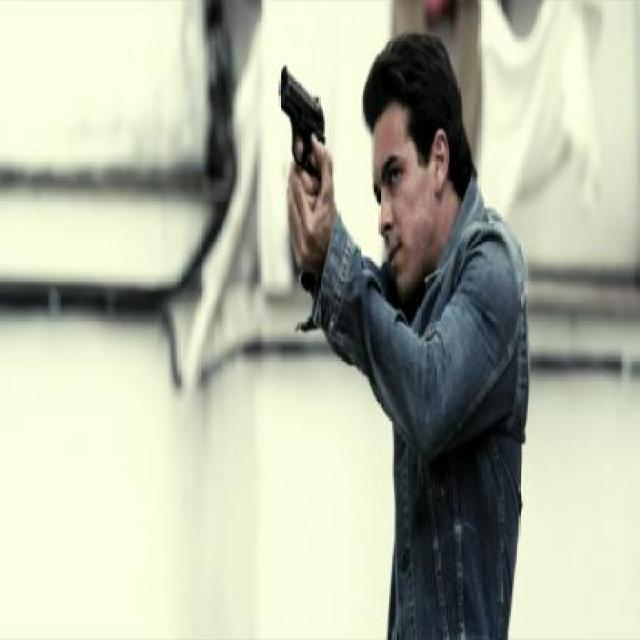gun: (270, 19, 335, 196)
